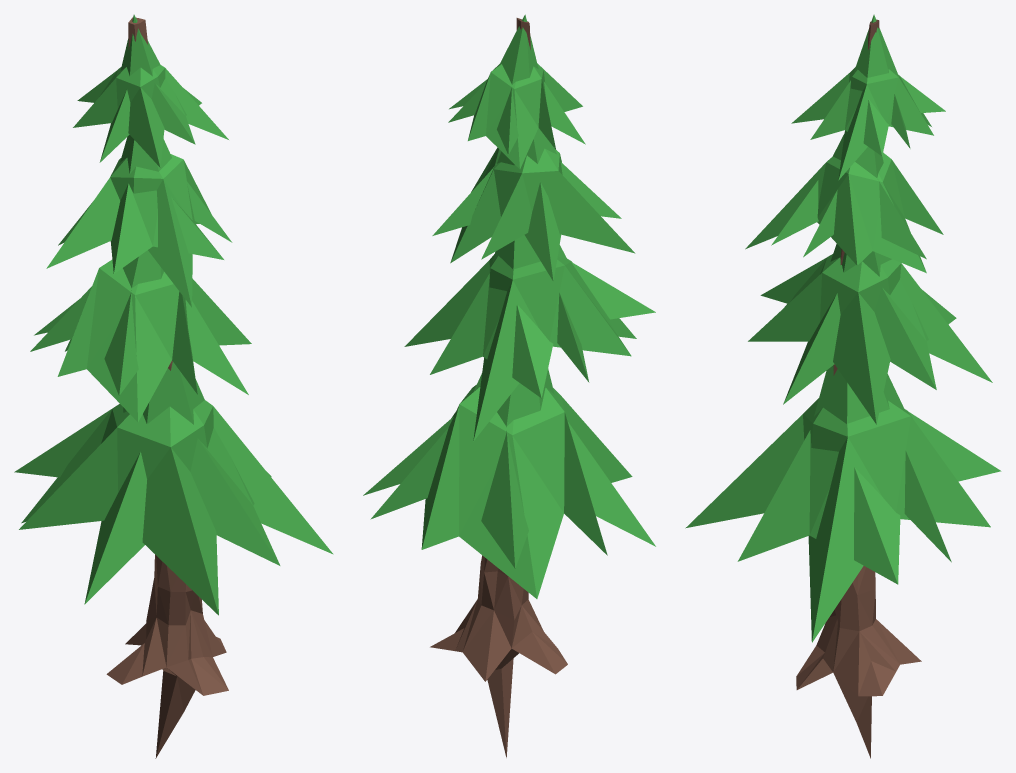
The model's file is Pine Tree.glb.
The picture shows the model from 3 angles, left to right: view 1: azimuth 30°, elevation 25°; view 2: azimuth 150°, elevation 25°; view 3: azimuth 270°, elevation 25°; orthographic projection. The views are drawn at different scales.
Visible parts, largest first — view 1: group1584123116, group775394311, group529738466, group70583428, group1952432717; view 2: group1584123116, group775394311, group529738466, group70583428, group1952432717; view 3: group1584123116, group775394311, group529738466, group70583428, group1952432717.
Part boxes in pixels (x1,y1,x2,y2): group1584123116: (14,361,333,615); group775394311: (30,250,251,421); group529738466: (46,134,232,307); group70583428: (106,17,228,758); group1952432717: (73,14,228,167); group1584123116: (363,368,655,598); group775394311: (404,235,655,441); group529738466: (432,128,635,281); group70583428: (430,18,567,757); group1952432717: (448,14,585,168); group1584123116: (685,365,1001,642); group775394311: (748,244,992,424); group529738466: (745,133,943,273); group70583428: (796,19,921,758); group1952432717: (791,14,945,180).
Bounding box in the file's own units: 0.679 × 1.82 × 0.7084.
